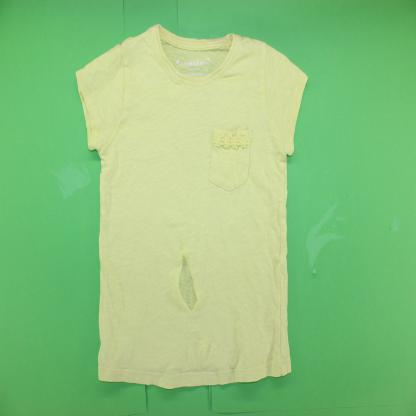hole: (176, 248, 200, 316)
